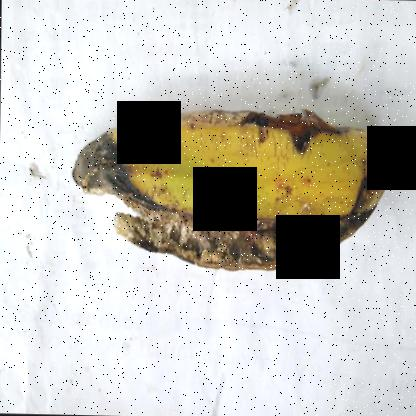rotten: (62, 92, 363, 271)
